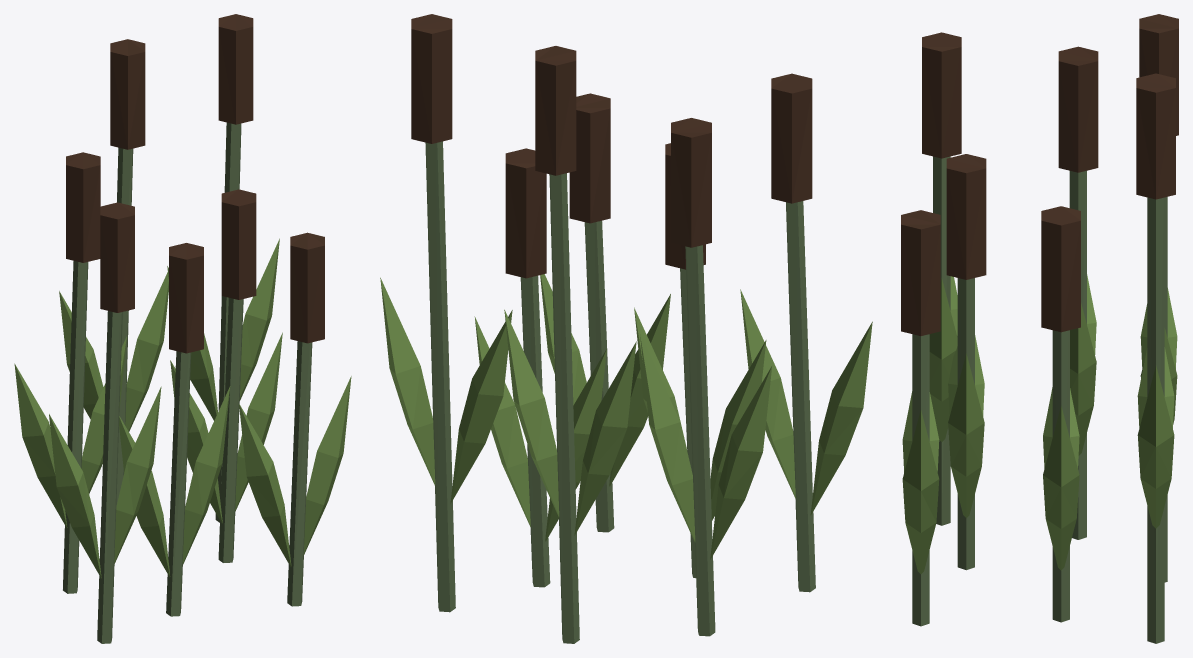
The model's file is reeds_a.glb.
The picture shows the model from 3 angles, left to right: view 1: azimuth 30°, elevation 25°; view 2: azimuth 150°, elevation 25°; view 3: azimuth 270°, elevation 25°; orthographic projection. The views are drawn at different scales.
Visible parts, largest first — view 1: body; view 2: body; view 3: body.
Part boxes in pixels (x1=…): body: x1=14, y1=14, x2=351, y2=643; body: x1=380, y1=14, x2=872, y2=643; body: x1=901, y1=14, x2=1178, y2=643.
Size of the model in its own units: 0.6533 by 0.9506 by 0.4243.
